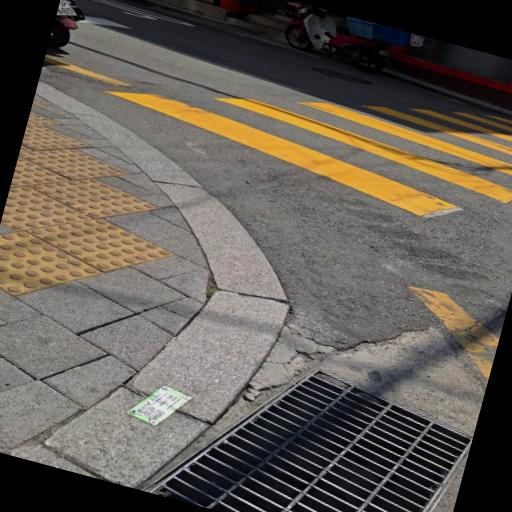yellow-crosswalk: (71, 0, 512, 275)
